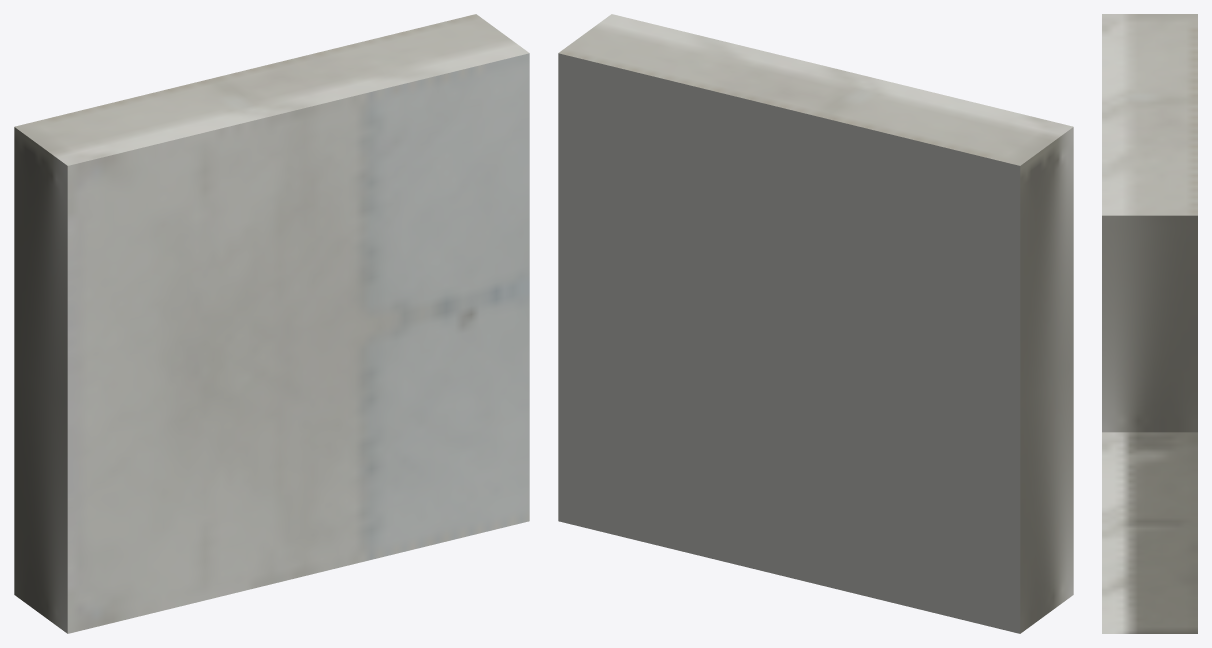
Rendered from section-0.obj.
3 renders of one model, left to right at view 1: azimuth 30°, elevation 25°; view 2: azimuth 150°, elevation 25°; view 3: azimuth 270°, elevation 25°, orthographic. The views are drawn at different scales.
Size of the model in its own units: 0.8662 by 0.8384 by 0.174.
1 material, 1 textured.
